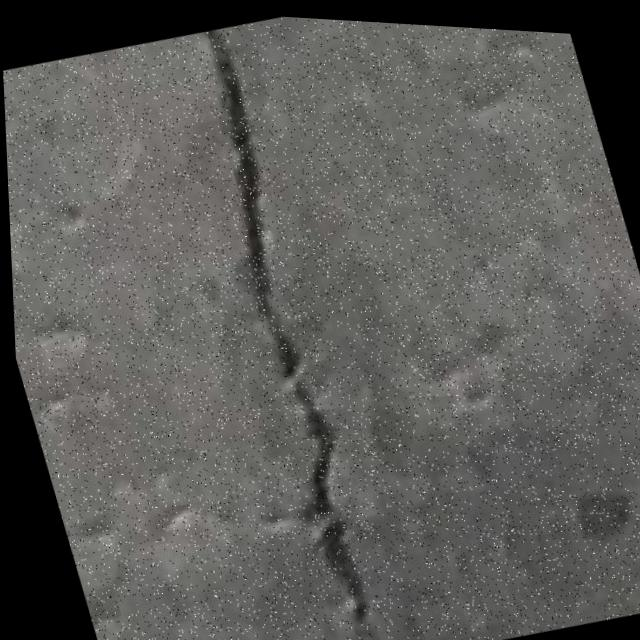Crack: (155, 15, 423, 640)
